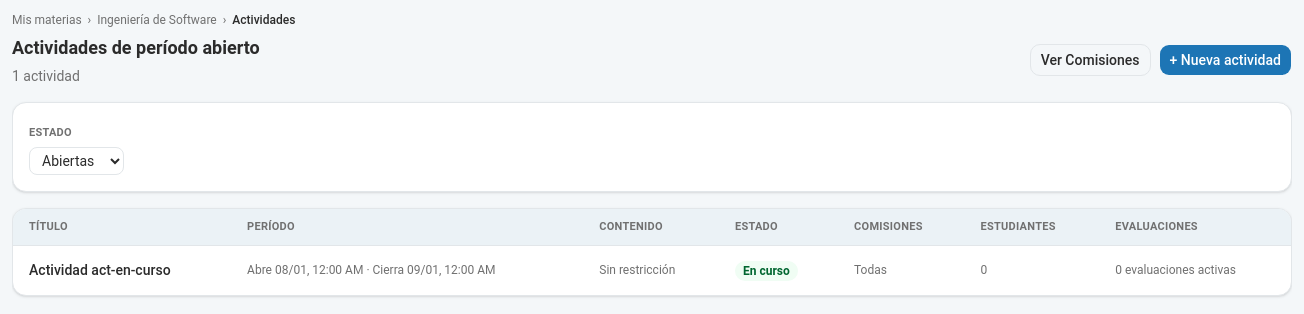
Test: Actividades › cambiar el filtro a Cerradas muestra solo las cerradas
expect the text "Actividad act-en-curso" is shown: met, box [13, 245, 231, 295]
Select "Cerradas" in the dropdown labelled "Estado". click: (76, 161)
box: [29, 147, 124, 175]
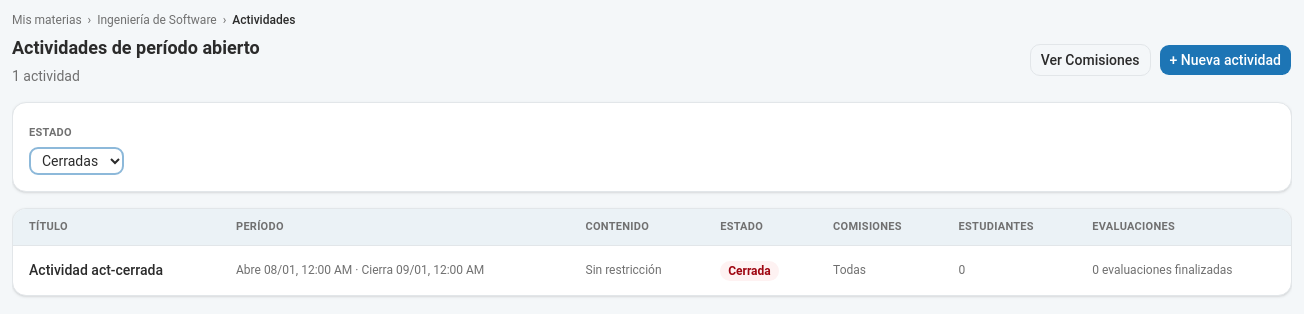
expect the text "Actividad act-en-curso" is gone: met
expect the text "Actividad act-cerrada" is shown: met, box [13, 245, 220, 295]
